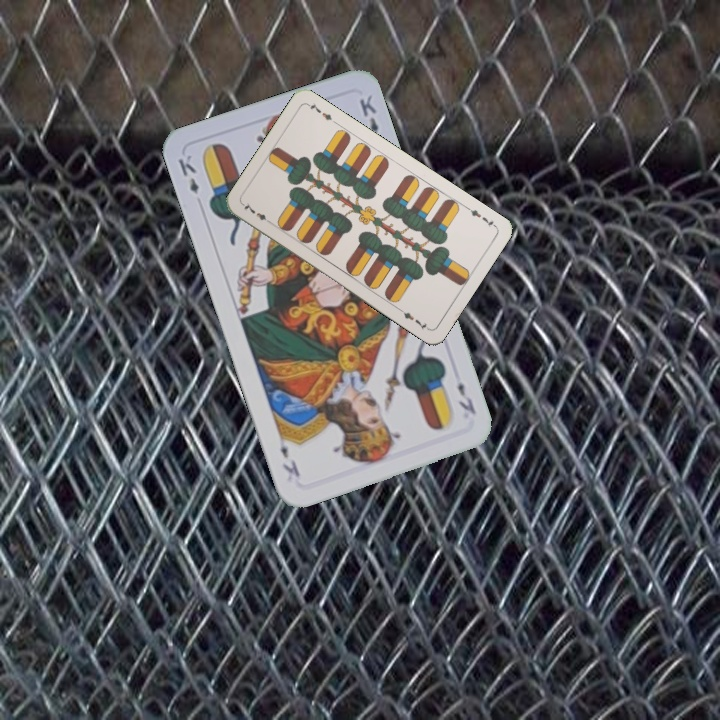E7: (239, 199, 275, 227), (462, 203, 499, 230)
EK: (174, 150, 202, 196), (453, 378, 479, 417)
